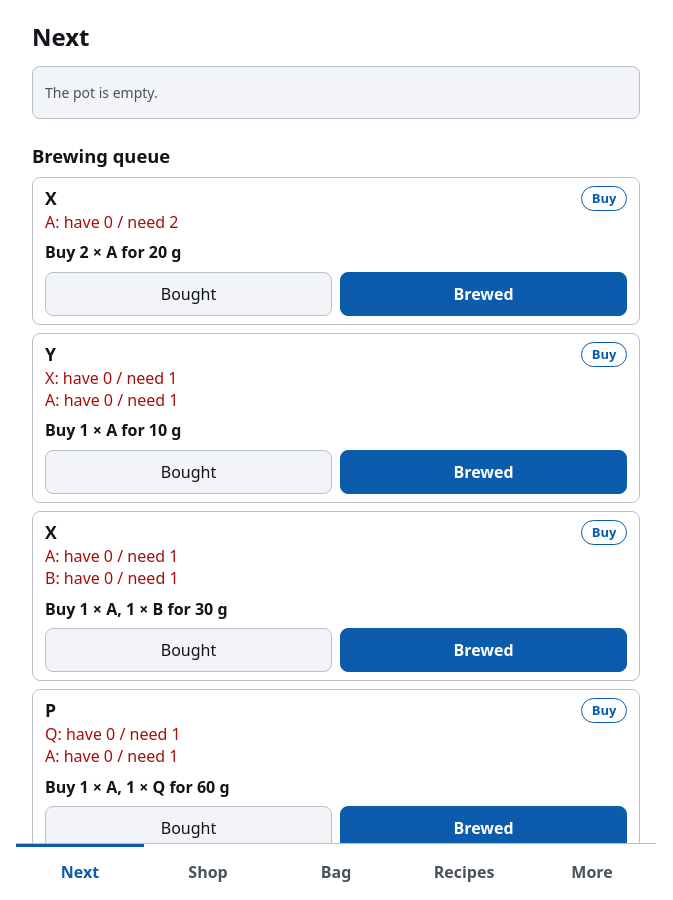
Recipes › says an ingredient is equipped instead of leaving the recipe as something to find
Click the button "Recipes" at (464, 872), box top-left (400, 844), bottom-right (528, 899)
(page scrolled)
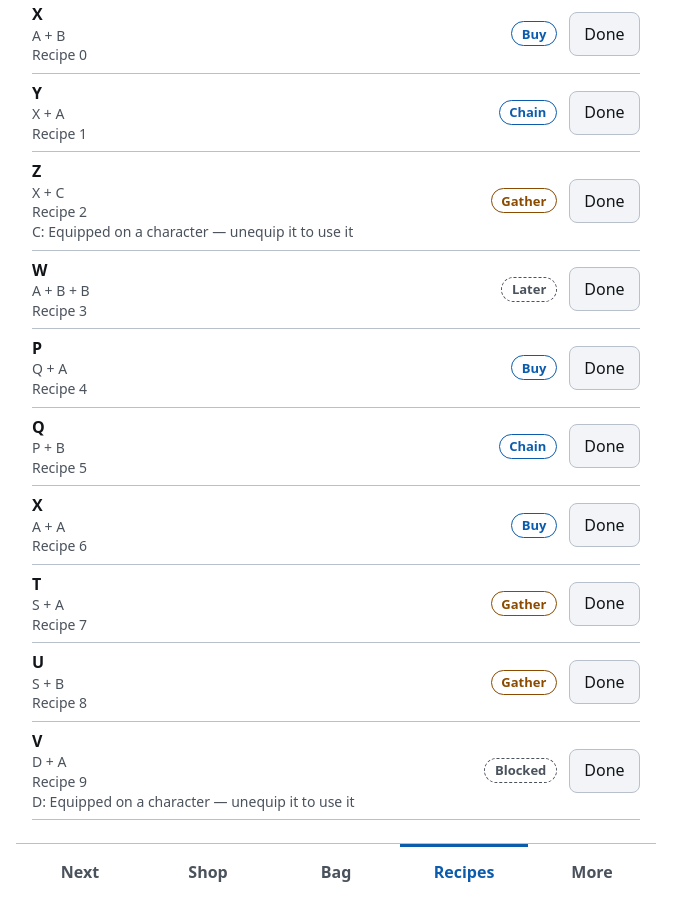
Expected: the list item does not show "Equipped on a character"
Now the list item that starts with "X + C" shows "C: Equipped on a character — unequip it to use it", box top-left (32, 222), bottom-right (353, 241)
Now the list item that starts with "D + A" shows "D: Equipped on a character — unequip it to use it", box top-left (32, 792), bottom-right (355, 811)
